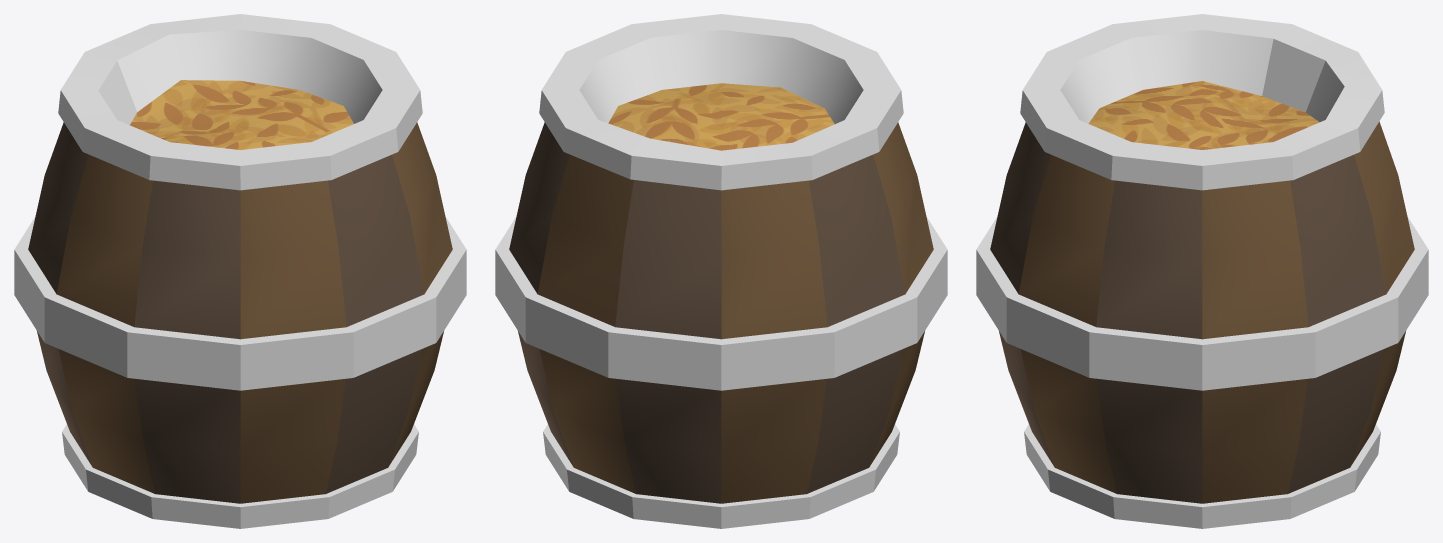
Rendered from 3D_foodstation_barell.fbx.
3 renders of one model, left to right at view 1: azimuth 30°, elevation 25°; view 2: azimuth 150°, elevation 25°; view 3: azimuth 270°, elevation 25°, orthographic.
Parts seen in each view (by area): view 1: 3D_foodstation_barell; view 2: 3D_foodstation_barell; view 3: 3D_foodstation_barell.
Part boxes in pixels (x1=…): 3D_foodstation_barell: x1=14, y1=14, x2=466, y2=528; 3D_foodstation_barell: x1=495, y1=14, x2=947, y2=528; 3D_foodstation_barell: x1=976, y1=14, x2=1428, y2=528.
Bounding box in the file's own units: 96.68 × 86.84 × 96.68.
